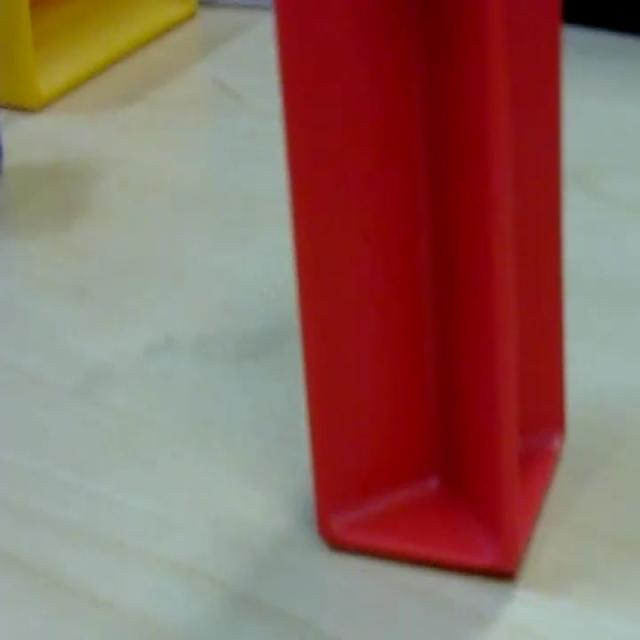red_block: (271, 0, 567, 579)
yellow_block: (1, 0, 199, 112)
